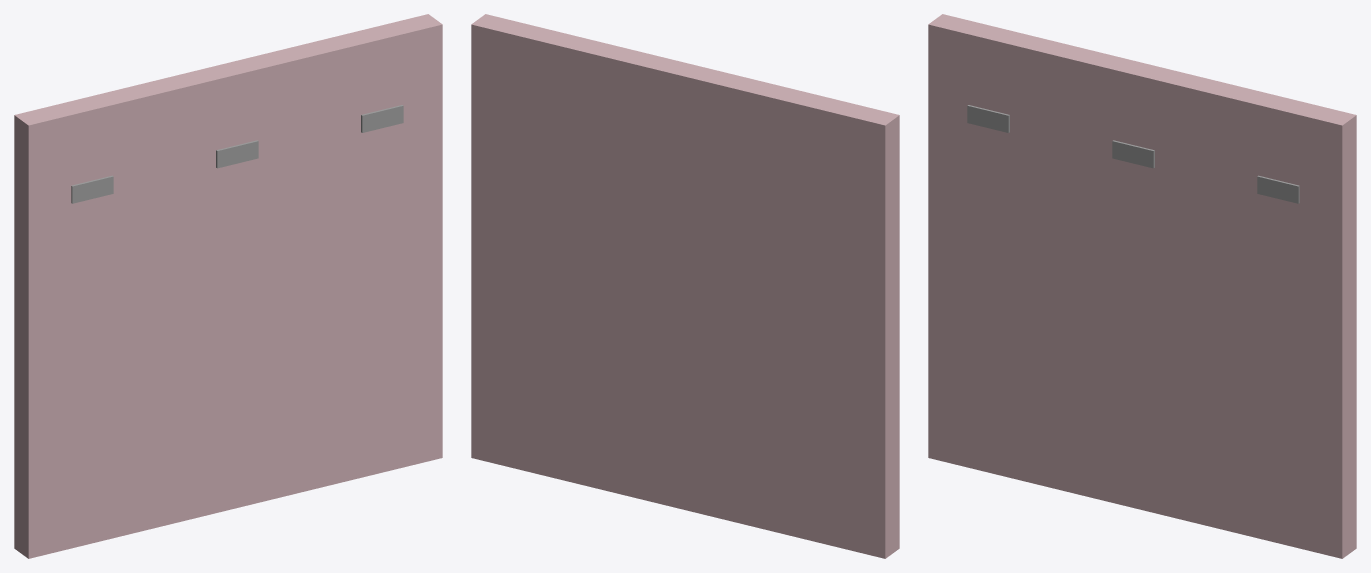
File: board.glb
The picture shows the model from 3 angles, left to right: view 1: azimuth 30°, elevation 25°; view 2: azimuth 150°, elevation 25°; view 3: azimuth 330°, elevation 25°; orthographic projection.
Visible parts, largest first — view 1: Substrate_Layer_0, Component_R1, Component_R2, Component_R3; view 2: Substrate_Layer_0; view 3: Substrate_Layer_0, Component_R3, Component_R1, Component_R2.
Part boxes in pixels (box(x1,y1,x2,y2)): Substrate_Layer_0: box(14, 14, 442, 558); Component_R1: box(71, 175, 113, 203); Component_R2: box(216, 140, 258, 168); Component_R3: box(361, 105, 403, 132); Substrate_Layer_0: box(471, 14, 899, 558); Substrate_Layer_0: box(928, 14, 1356, 558); Component_R3: box(1257, 175, 1299, 203); Component_R1: box(967, 105, 1009, 132); Component_R2: box(1112, 140, 1154, 168).
Size of the model in its own units: 0.05 by 0.05 by 0.0035.
